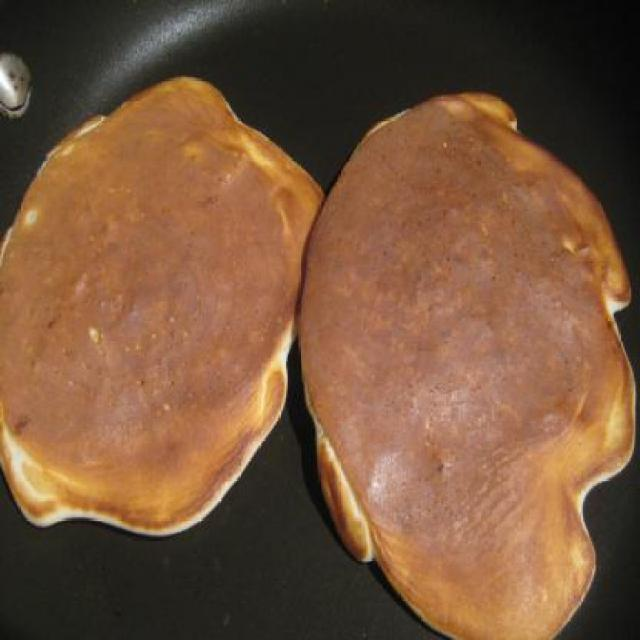Pancake: (298, 90, 636, 639), (12, 71, 317, 540)
